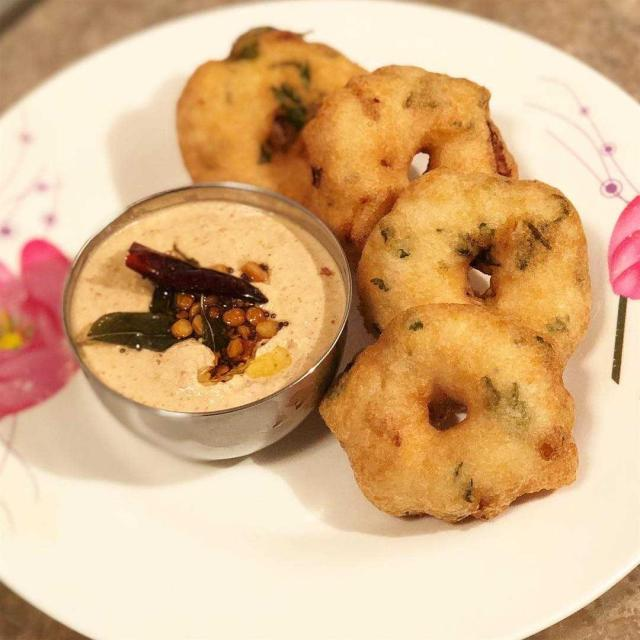MEDU VADA: (320, 299, 578, 522), (357, 169, 591, 372), (300, 66, 517, 259), (176, 27, 364, 203)
